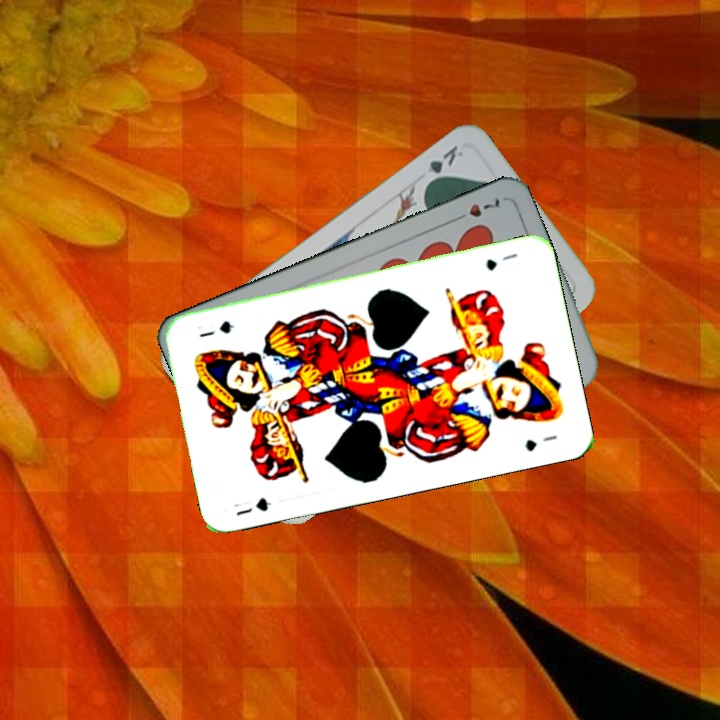GK: (419, 141, 466, 189)
GU: (229, 493, 274, 519), (482, 249, 520, 274)
H7: (449, 193, 504, 224)
